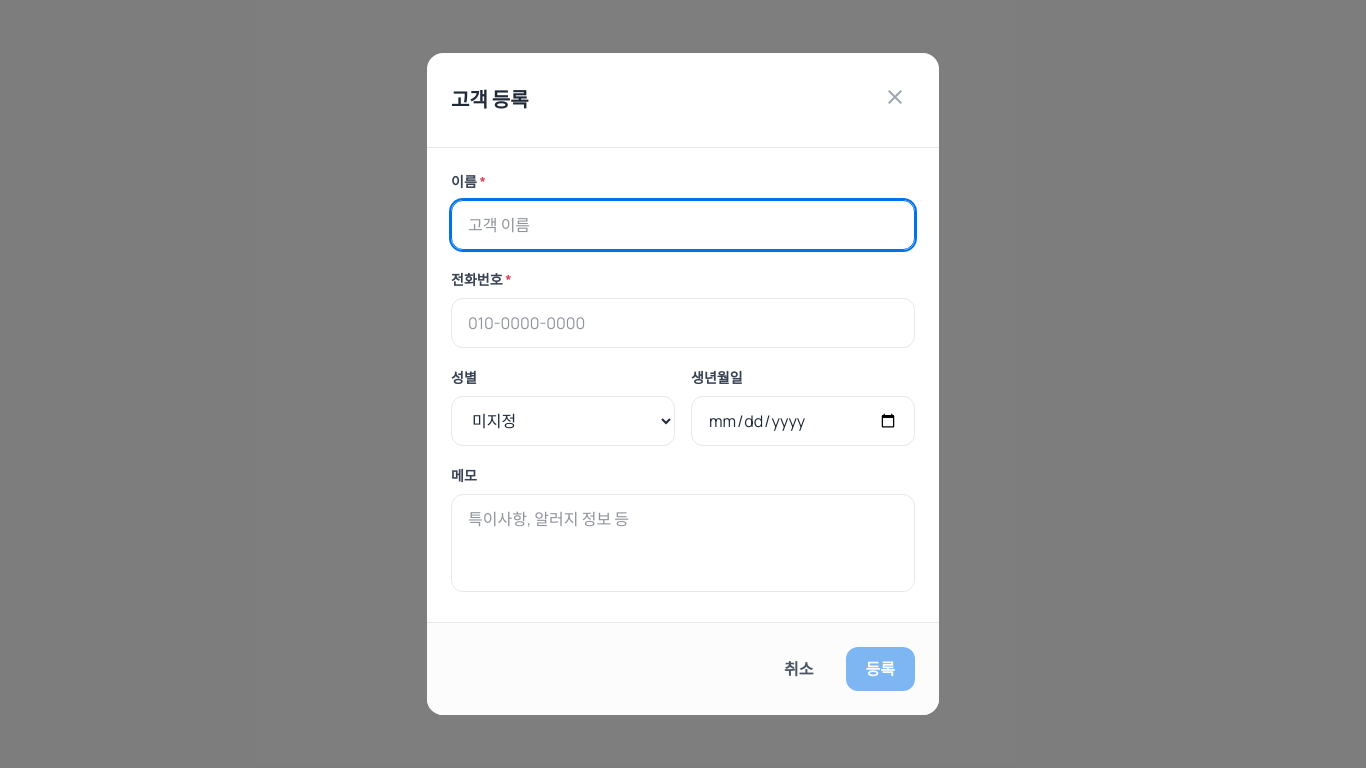
CustomerFormModal › 폼 유효성 검사 › 이름과 전화번호를 모두 입력하면 등록 버튼이 활성화된다
Type "홍길동" into the field with placeholder "고객 이름" at (683,225), box 451,200 -> 915,250
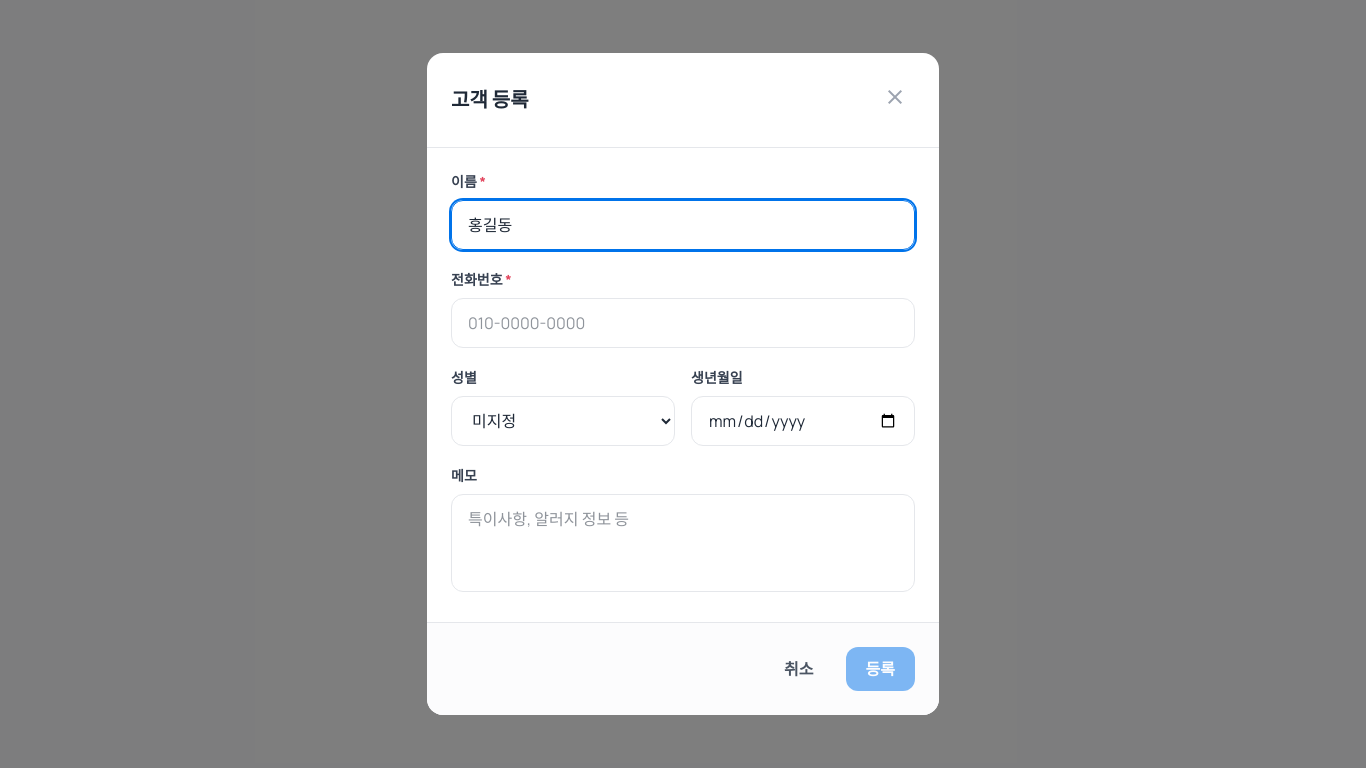
Type "010-1234-5678" into the field with placeholder "010-0000-0000" at (683,323), box 451,298 -> 915,348
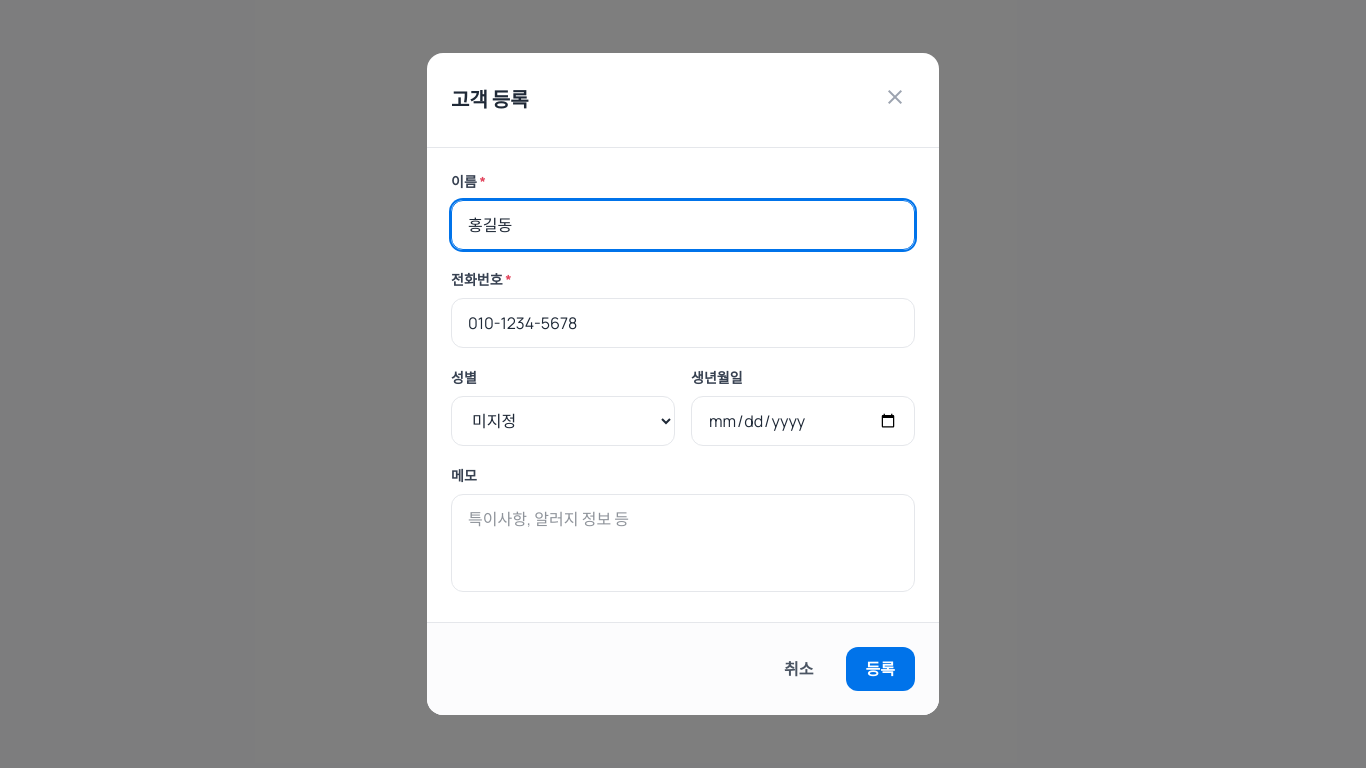
Result: the button "등록" is enabled at 846,647 -> 915,691
